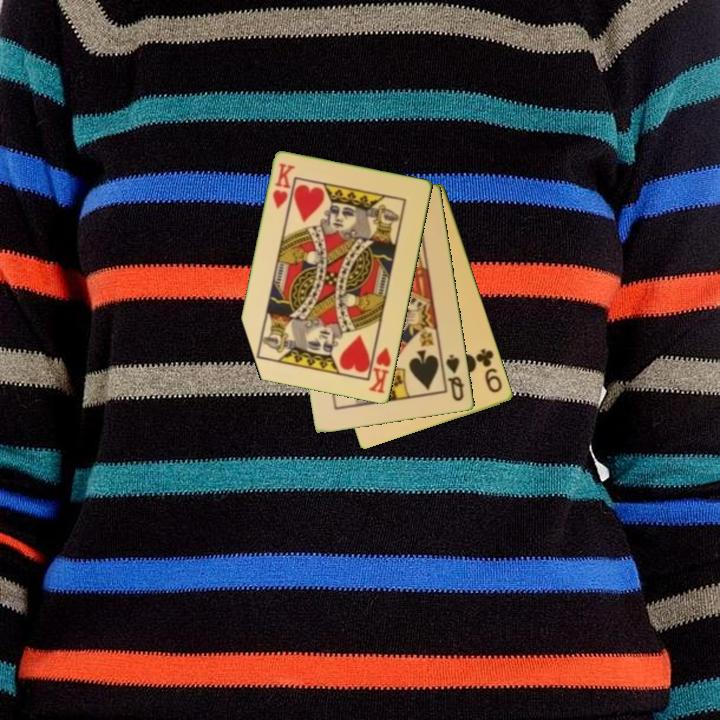9c: (473, 345, 506, 396)
Kh: (366, 339, 394, 397), (269, 160, 298, 212)
Qs: (443, 351, 467, 404)
